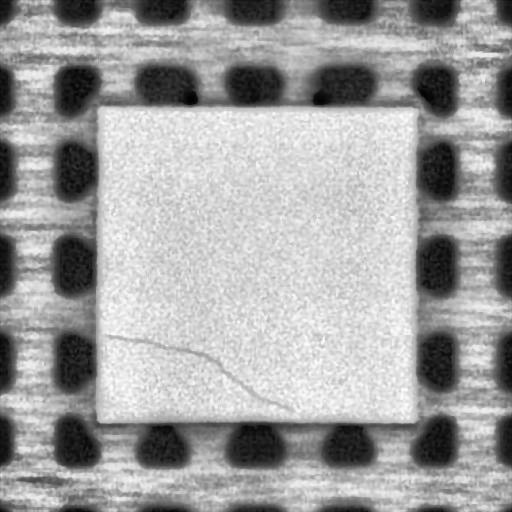DIE_CRACK: (106, 331, 294, 408)
